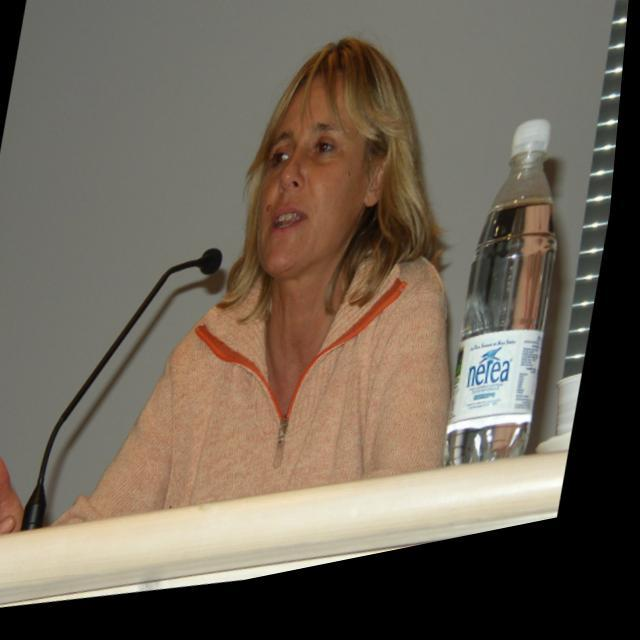Nonhelmet: (214, 34, 449, 325)
